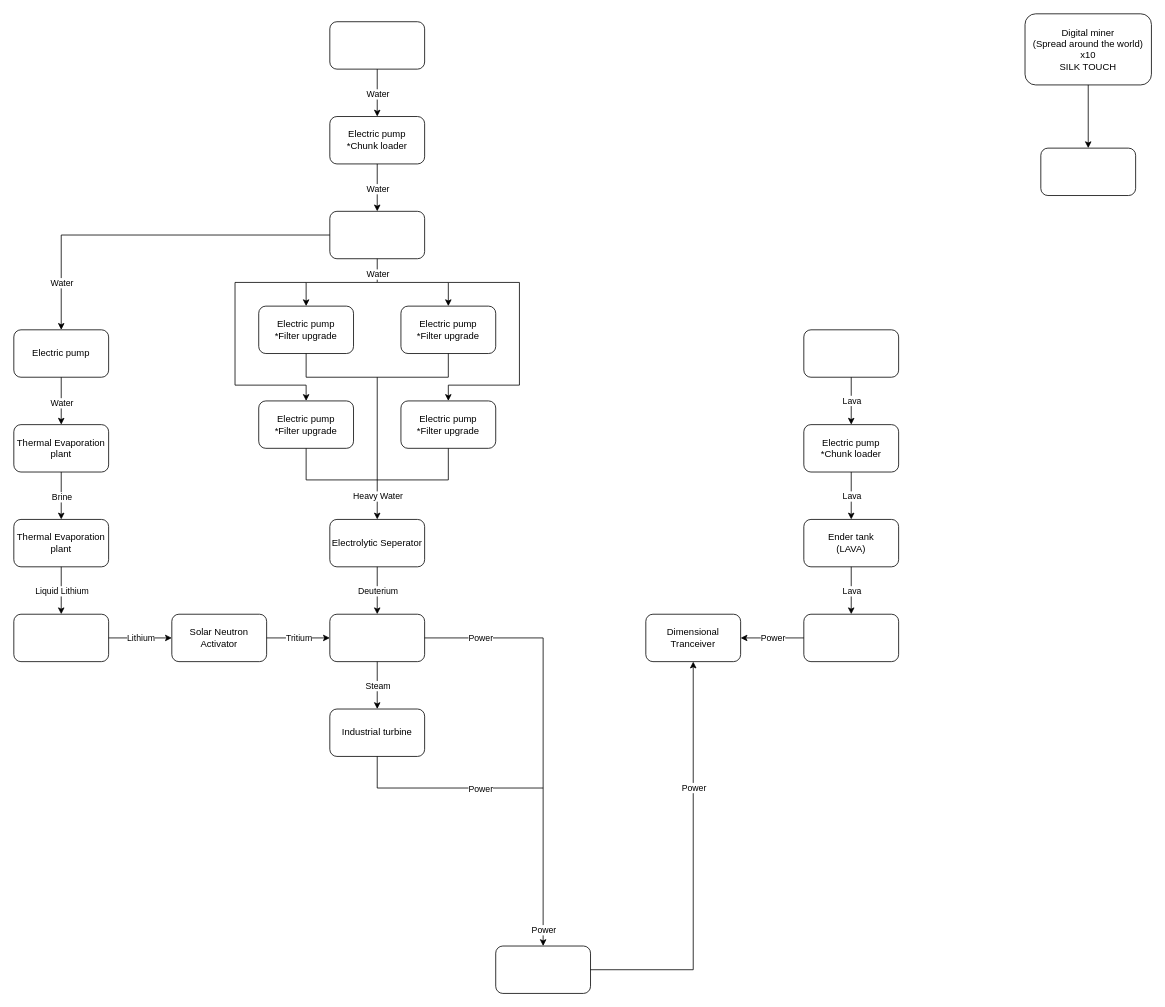
Image size: 1165x1007. Some labels were removed from this diagram. Here are the shapes that lost their labels. From the top down, the centre of each, then its label:
the point at 377,45: Ocean Overworld
the point at 377,235: Ender tank (WATER)
the point at 851,353: Lava lake (Nether)
the point at 61,637: Rotary Condensator
the point at 377,637: Fusion reactor
the point at 851,637: Magmatic Dynamo x32
the point at 543,969: Capacitor banks
